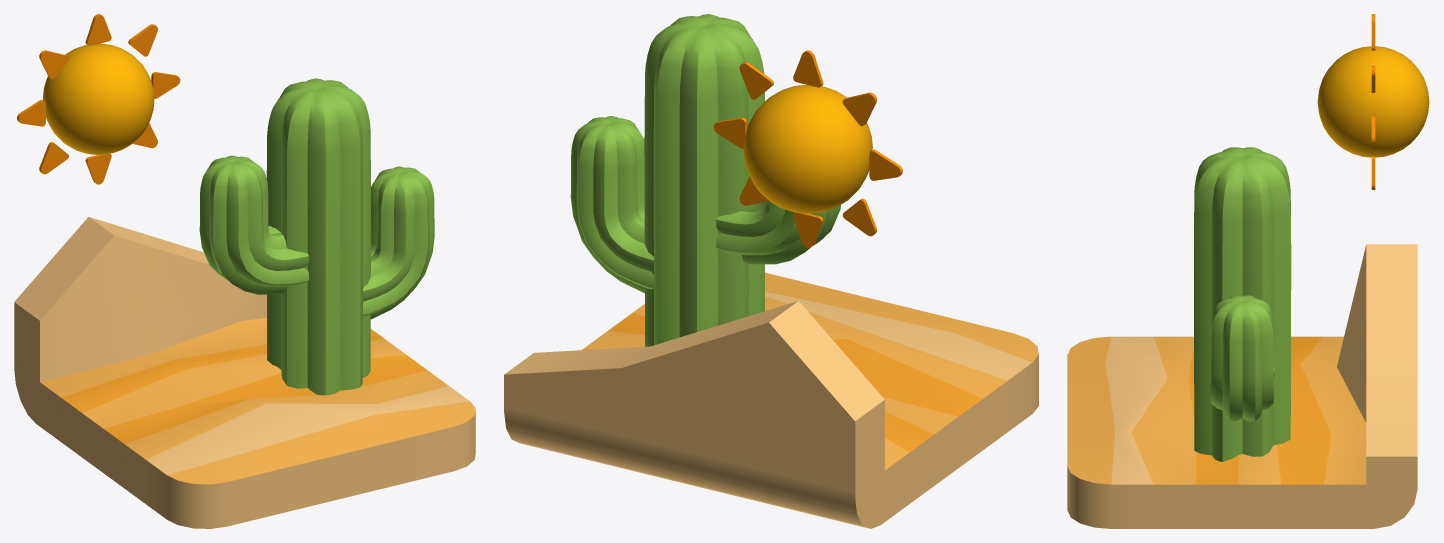
The model's file is desert.glb.
The picture shows the model from 3 angles, left to right: view 1: azimuth 30°, elevation 25°; view 2: azimuth 150°, elevation 25°; view 3: azimuth 270°, elevation 25°; orthographic projection. The views are drawn at different scales.
Parts seen in each view (by area): view 1: Cube.461, Circle.2334, Cube.460; view 2: Cube.461, Circle.2334, Cube.460; view 3: Cube.461, Circle.2334, Cube.460.
Part boxes in pixels (x1,y1,x2,y2): Cube.461: (14, 217, 475, 528); Circle.2334: (199, 78, 434, 395); Cube.460: (17, 14, 180, 184); Cube.461: (504, 272, 1038, 528); Circle.2334: (570, 14, 840, 346); Cube.460: (713, 50, 902, 247); Cube.461: (1067, 244, 1417, 528); Circle.2334: (1194, 147, 1291, 461); Cube.460: (1317, 14, 1429, 189).
Size of the model in its own units: 2.05 by 2.24 by 1.86.
1 material, 1 textured.
